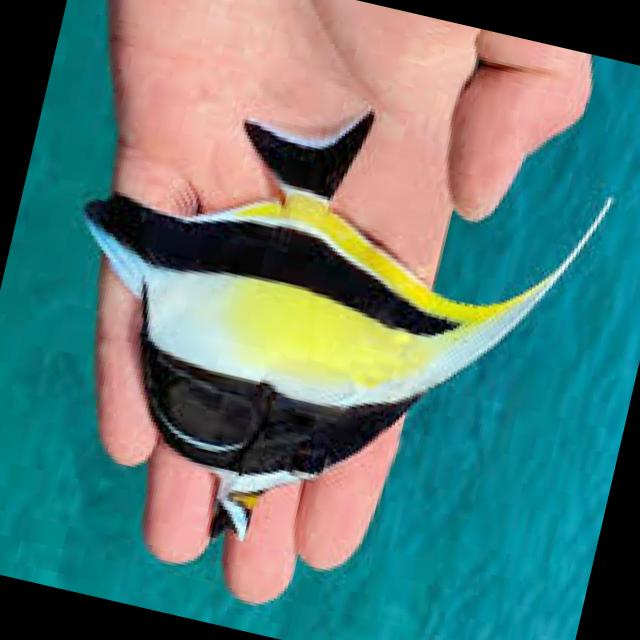MorishIdol: (8, 50, 625, 615)
